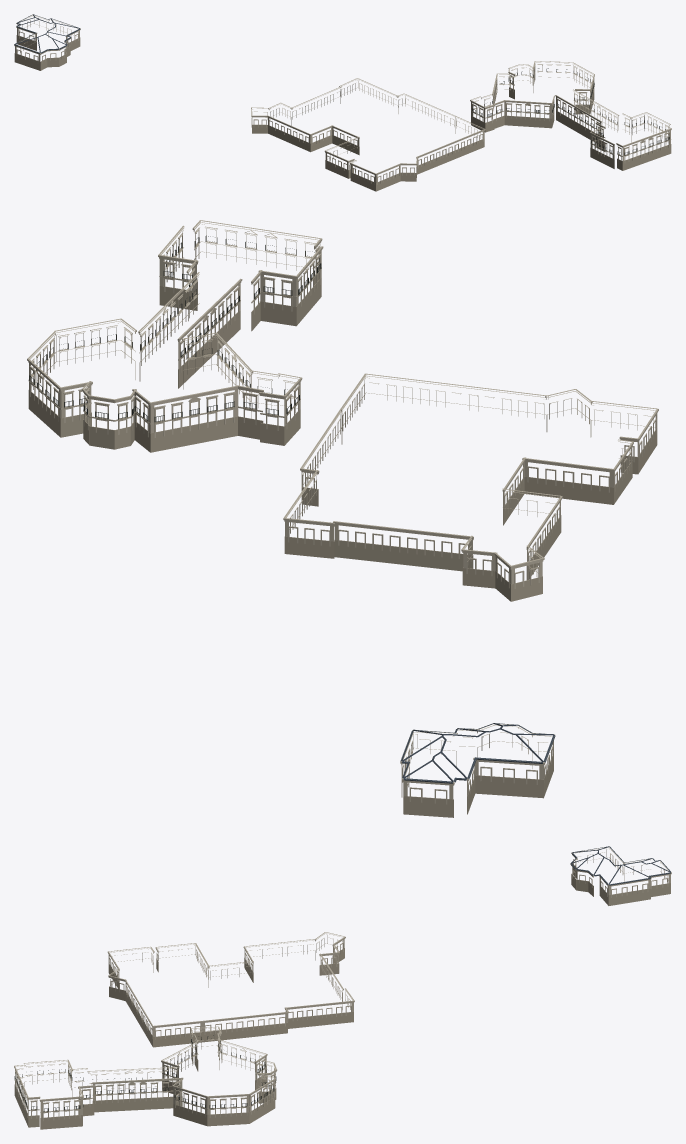
3 renders of one model, top to bottom at view 1: azimuth 30°, elevation 25°; view 2: azimuth 150°, elevation 25°; view 3: azimuth 270°, elevation 25°, orthographic. The views are drawn at different scales.
Parts seen in each view (by area): view 1: detail; view 2: detail; view 3: detail.
Boxes of the visible parts, bbox=[...] form: detail: bbox=[14, 14, 671, 191]; detail: bbox=[27, 220, 658, 817]; detail: bbox=[14, 846, 671, 1129].
Size of the model in its own units: 149 by 13.69 by 170.
